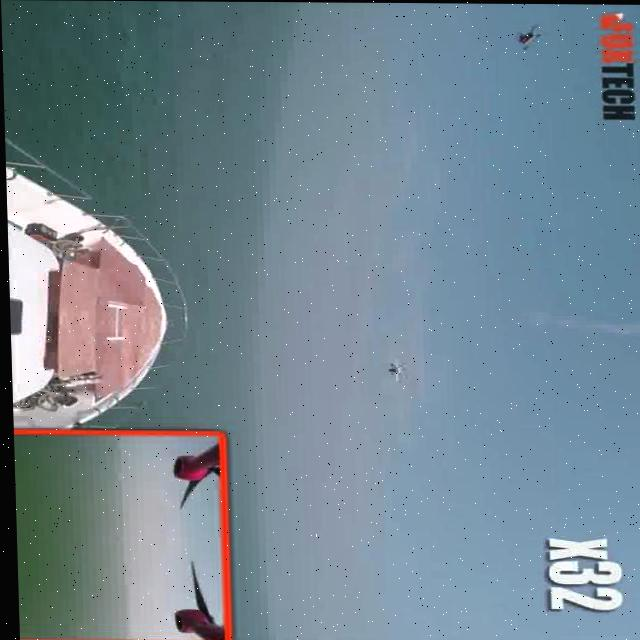drone: (497, 14, 551, 60), (374, 353, 411, 387)
